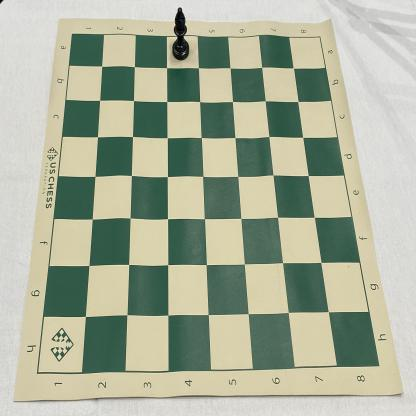black-bishop: (172, 7, 190, 61)
